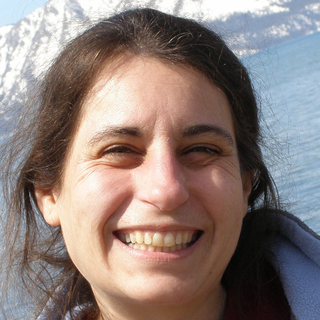eye: (178, 140, 224, 162), (96, 142, 145, 160)
